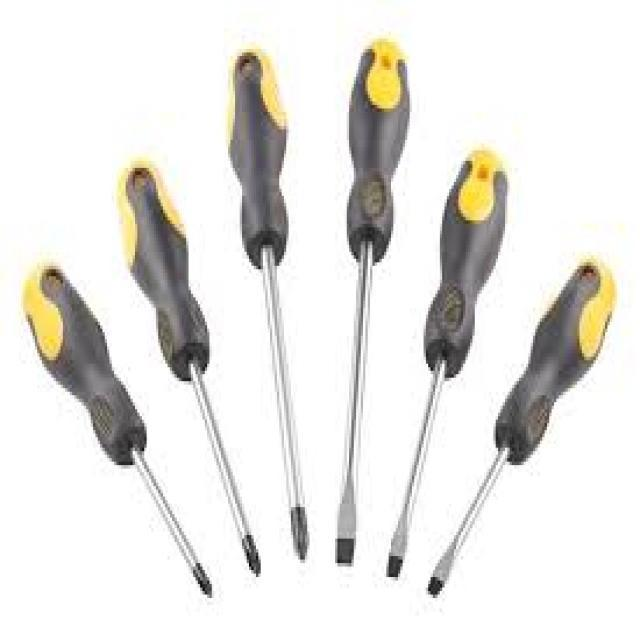screwdriver: (16, 258, 214, 602), (425, 253, 618, 600), (114, 148, 263, 582), (383, 143, 511, 584), (226, 42, 312, 563), (330, 29, 412, 568)
